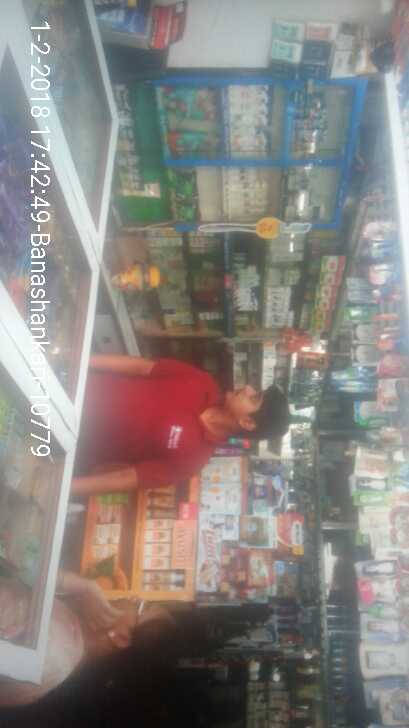beauty: (224, 91, 273, 106), (229, 86, 271, 102), (226, 114, 272, 128), (232, 103, 273, 114)
pharmacy: (158, 87, 222, 122), (168, 128, 226, 161), (169, 167, 197, 200), (176, 199, 201, 220)
